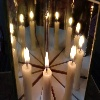fire: (45, 51, 50, 70)
